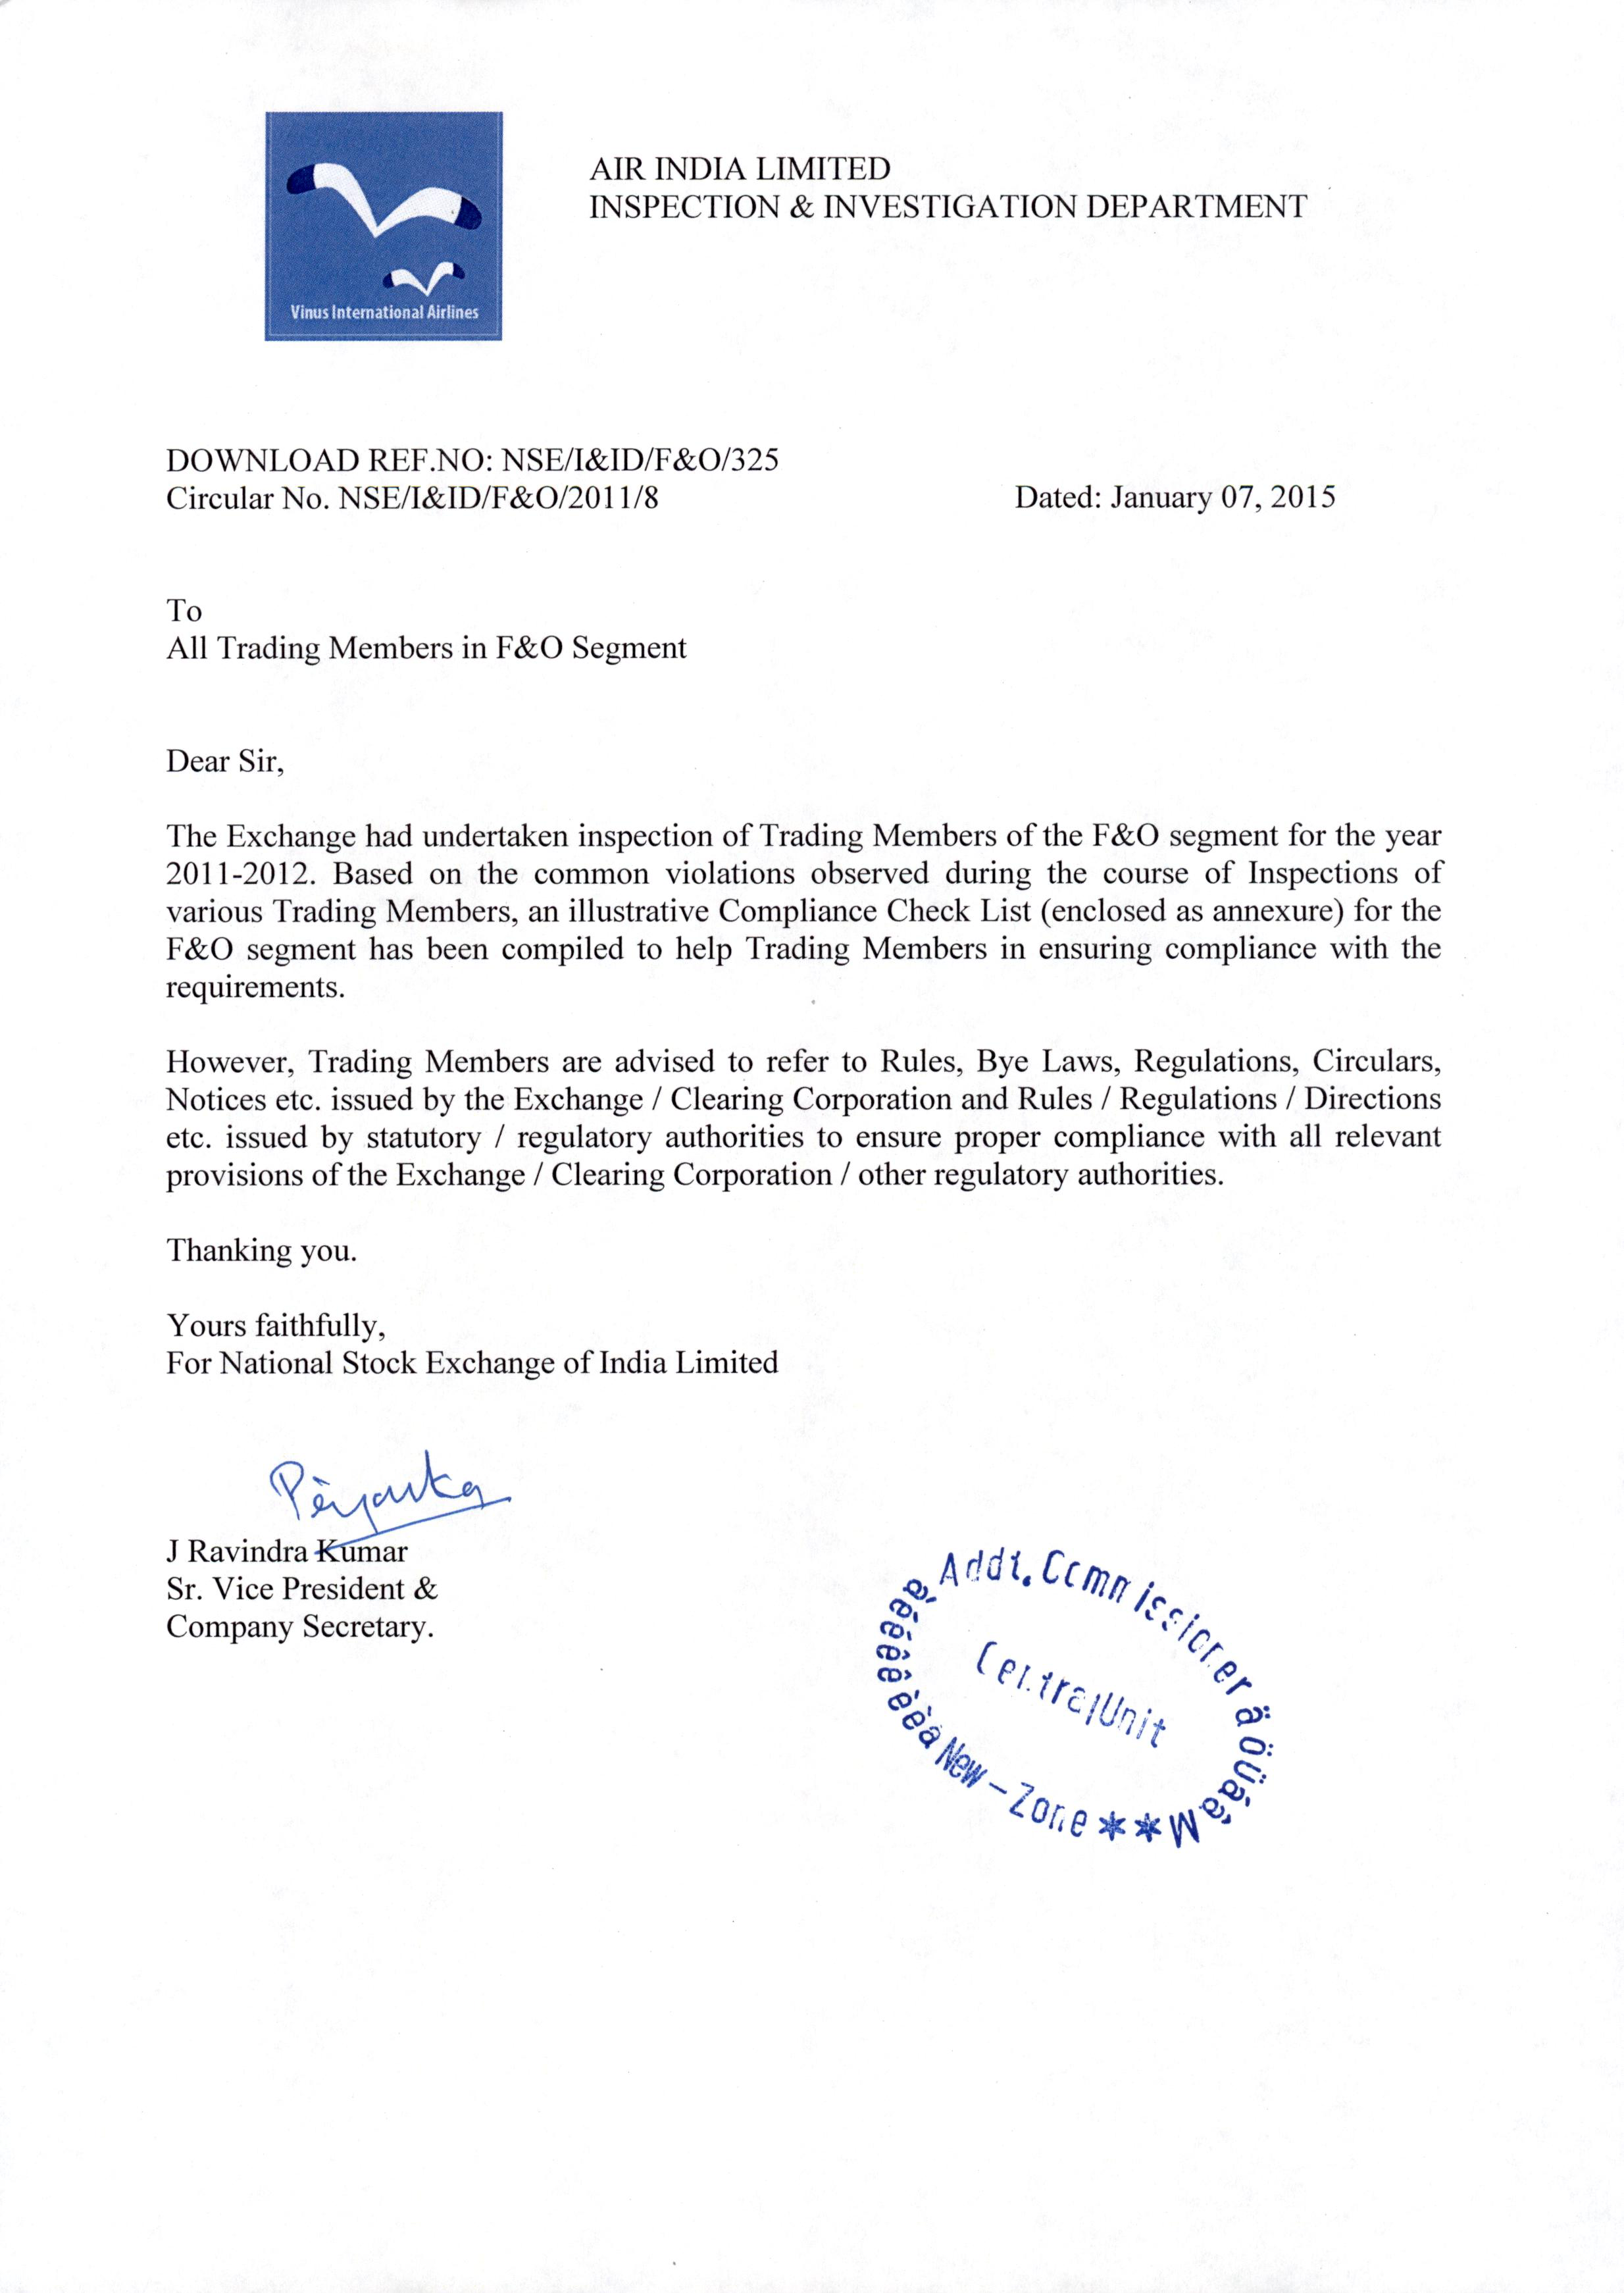Signature: (262, 1443, 517, 1536)
